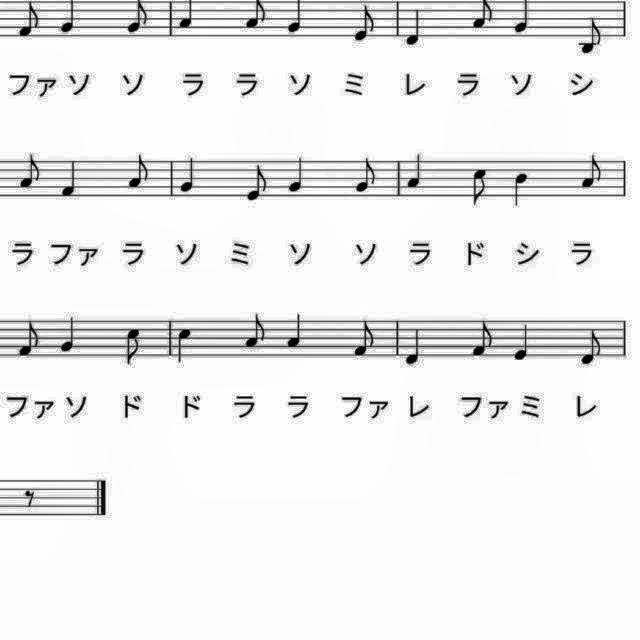Eighth-note: (576, 326, 608, 370), (575, 16, 607, 60), (350, 153, 380, 197), (349, 0, 379, 44), (469, 316, 499, 360), (349, 316, 379, 360), (242, 159, 270, 205), (12, 0, 44, 40), (16, 151, 46, 193), (240, 311, 270, 353), (15, 318, 45, 360), (577, 151, 607, 193), (122, 322, 148, 370), (465, 162, 491, 210), (124, 150, 152, 193), (123, 0, 153, 38), (466, 0, 496, 32)
Eighth-rest: (20, 483, 42, 513)
Quarter-note: (400, 324, 428, 370), (401, 5, 429, 51), (56, 312, 84, 356), (57, 156, 83, 200), (511, 320, 537, 364), (283, 152, 309, 196), (282, 311, 308, 353), (172, 324, 198, 366), (510, 166, 534, 210), (176, 154, 200, 198), (404, 151, 428, 193), (511, 0, 537, 36), (282, 0, 308, 36), (56, 0, 80, 36), (177, 0, 200, 32)
